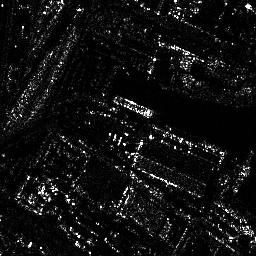ship: (110, 94, 155, 118)
